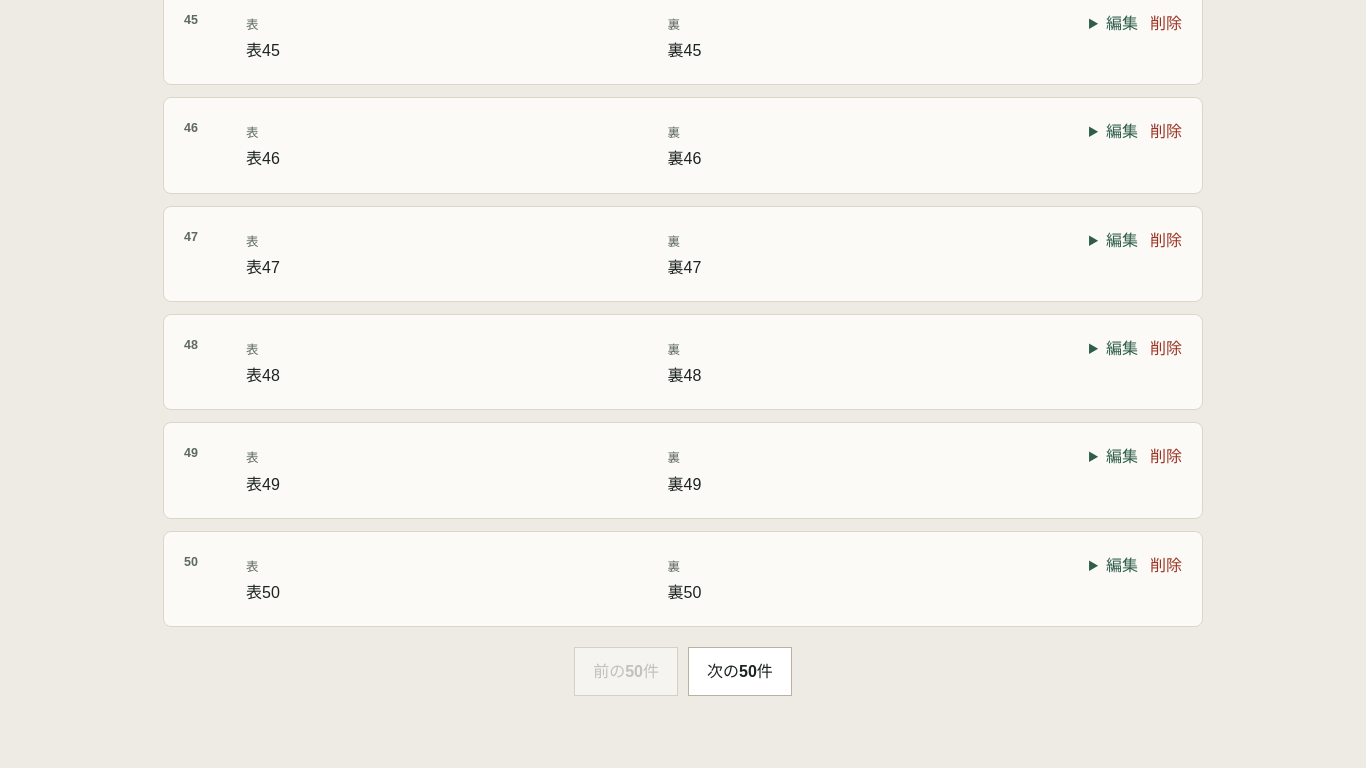
Test: カード一覧のページ送り › 末尾では次の50件を押せない
(page scrolled)
Click the button "次の50件" at (740, 672), box [688,647,792,696]
(page scrolled)
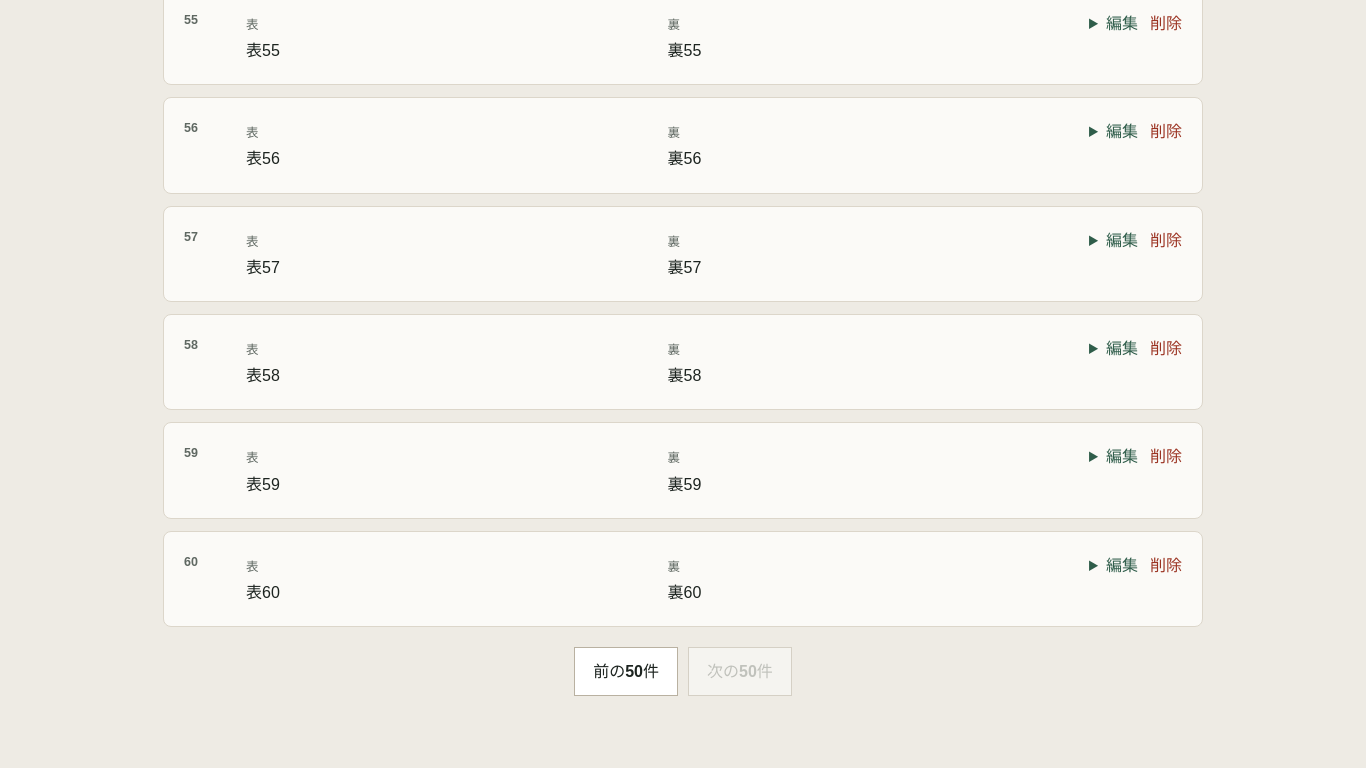
Check: the button "次の50件" is disabled, box [688,647,792,696]
